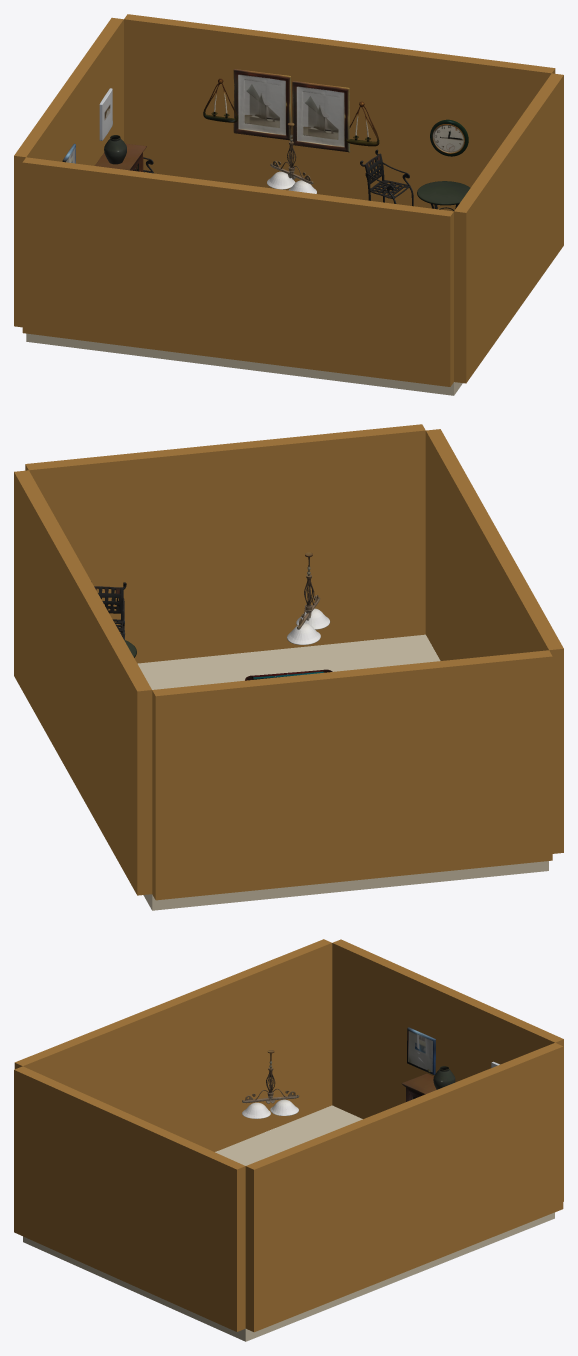
File: stage3.glb
The picture shows the model from 3 angles, top to bottom: view 1: azimuth 30°, elevation 25°; view 2: azimuth 150°, elevation 25°; view 3: azimuth 270°, elevation 25°; orthographic projection. The views are drawn at different scales.
Parts seen in each view (by area): view 1: Wall_01, geometry_0.005, Floor, geometry_0.004, geometry_0.007, geometry_0, geometry_0.009, geometry_0.011, geometry_0.006, geometry_0.013, geometry_0.001; view 2: Wall_01, Floor, geometry_0.007, geometry_0.004; view 3: Wall_01, Floor, geometry_0.007, geometry_0.002, geometry_0.006.
Part boxes in pixels (x1,y1,x2,y2): Wall_01: [14, 14, 563, 386]; geometry_0.005: [233, 69, 350, 152]; Floor: [26, 333, 462, 395]; geometry_0.004: [134, 149, 413, 206]; geometry_0.007: [267, 122, 316, 193]; geometry_0: [430, 119, 468, 156]; geometry_0.009: [417, 181, 470, 210]; geometry_0.011: [203, 78, 379, 146]; geometry_0.006: [95, 143, 146, 171]; geometry_0.013: [99, 88, 112, 140]; geometry_0.001: [104, 135, 126, 164]; Wall_01: [14, 424, 563, 900]; Floor: [137, 634, 548, 910]; geometry_0.007: [287, 552, 330, 644]; geometry_0.004: [91, 581, 126, 639]; Wall_01: [14, 939, 563, 1332]; Floor: [23, 1105, 554, 1341]; geometry_0.007: [242, 1050, 299, 1118]; geometry_0.002: [407, 1027, 435, 1074]; geometry_0.006: [401, 1073, 436, 1101].
Size of the model in its own units: 11.22 by 3.99 by 11.31.
Materials: 13 (11 with a texture image).
